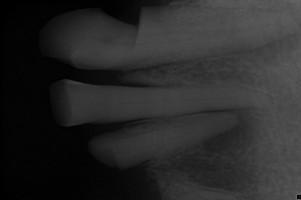Furcation Involvement: (154, 111, 258, 190)
